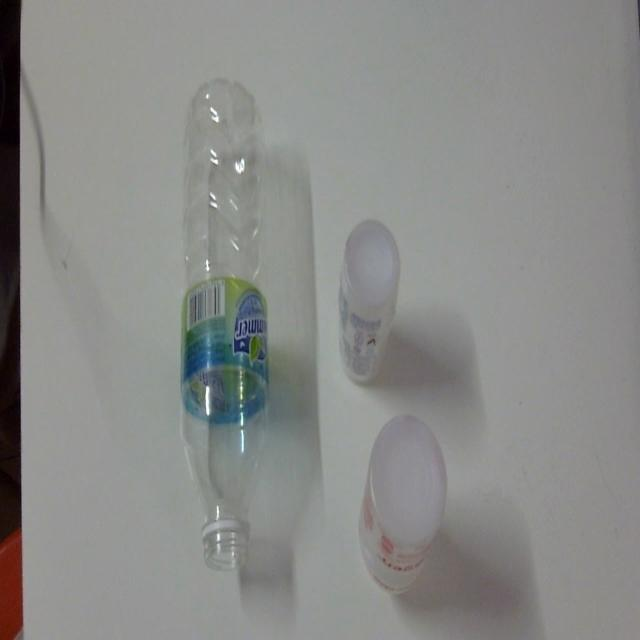plastic_laydown_90rotation: (177, 74, 294, 590)
plastic_standrotation: (351, 396, 448, 610), (319, 195, 412, 393)
